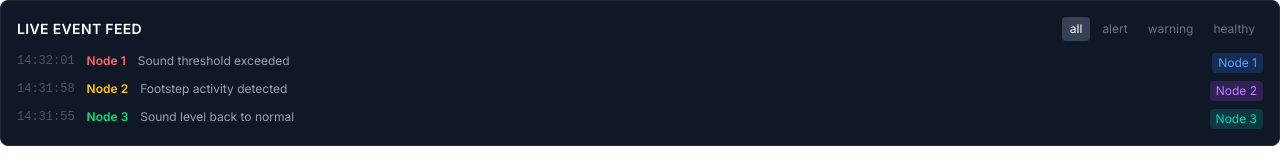
Test: EventFeed › shows all events again when all is clicked
This screenshot has width=1280, height=163.
Click the button "alert" at (1115, 29), box [1094,17,1136,41]
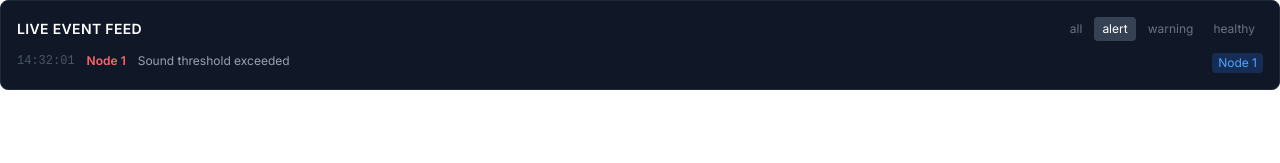
Click the button "all" at (1076, 29), box [1062,17,1090,41]
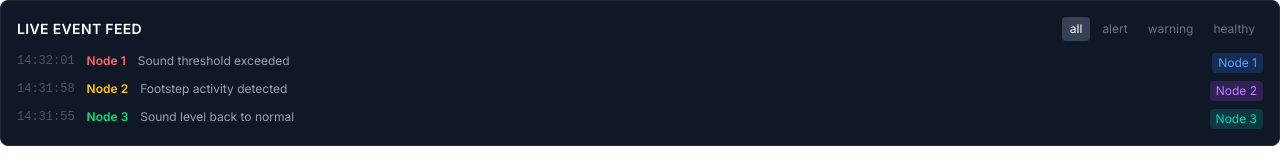
Expected: the text "Sound threshold exceeded" is shown, [138,53,290,69]
Expected: the text "Footstep activity detected" is shown, [140,81,287,97]
Expected: the text "Sound level back to normal" is shown, [140,109,294,125]
